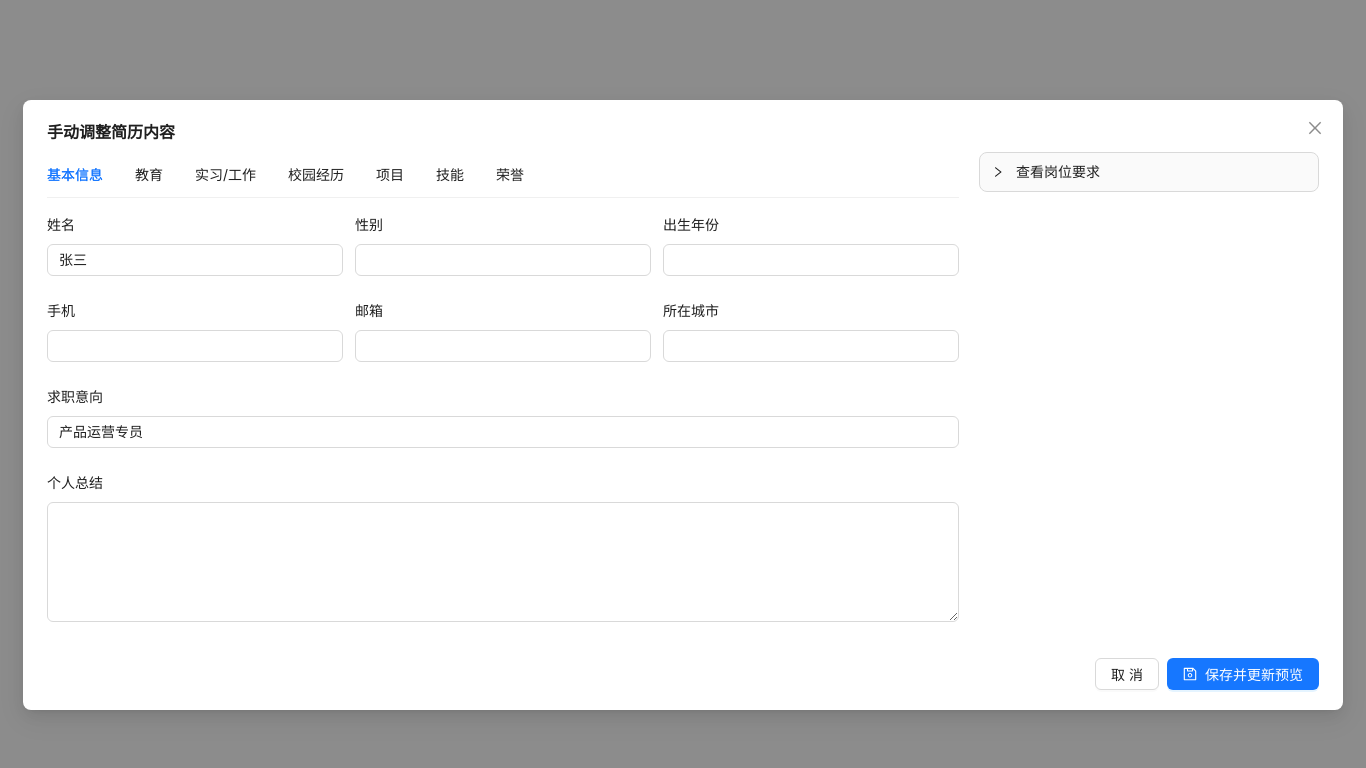
Test: ResumeEditorModal reference panel › places the reference before the form in a collapsible narrow-screen section
Expected: the element labelled "姓名" is shown, [47,152,959,646]
Click the button "查看岗位要求".
click(1046, 172)  # box [992,163,1100,180]
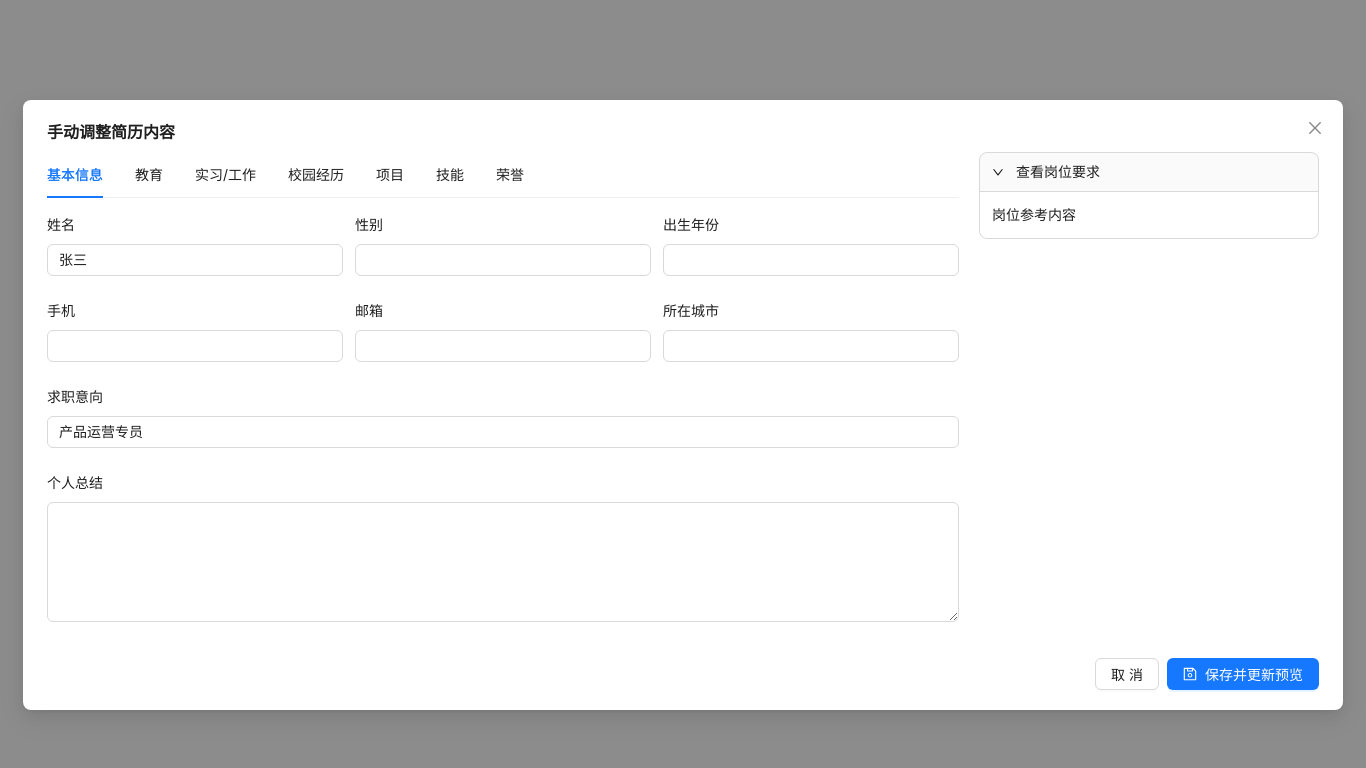
Now the button "查看岗位要求" is expanded, box [992,163,1100,180]
Now the text "岗位参考内容" is shown, box [992,206,1076,223]
